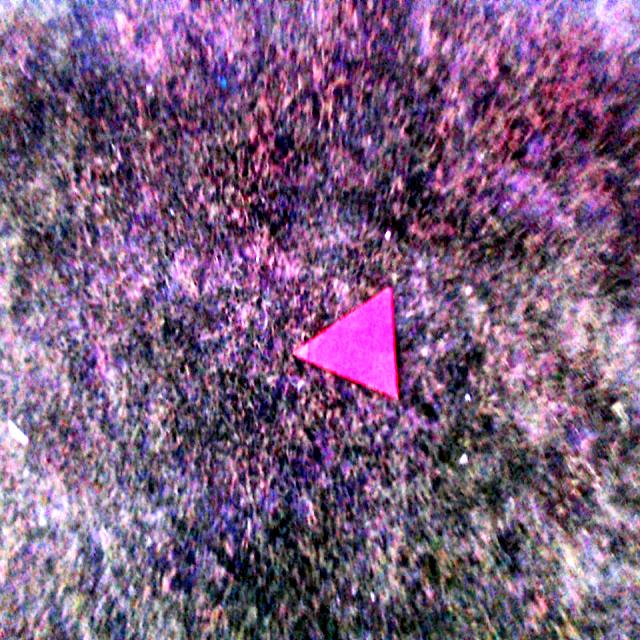red_triangle: (291, 286, 400, 401)
